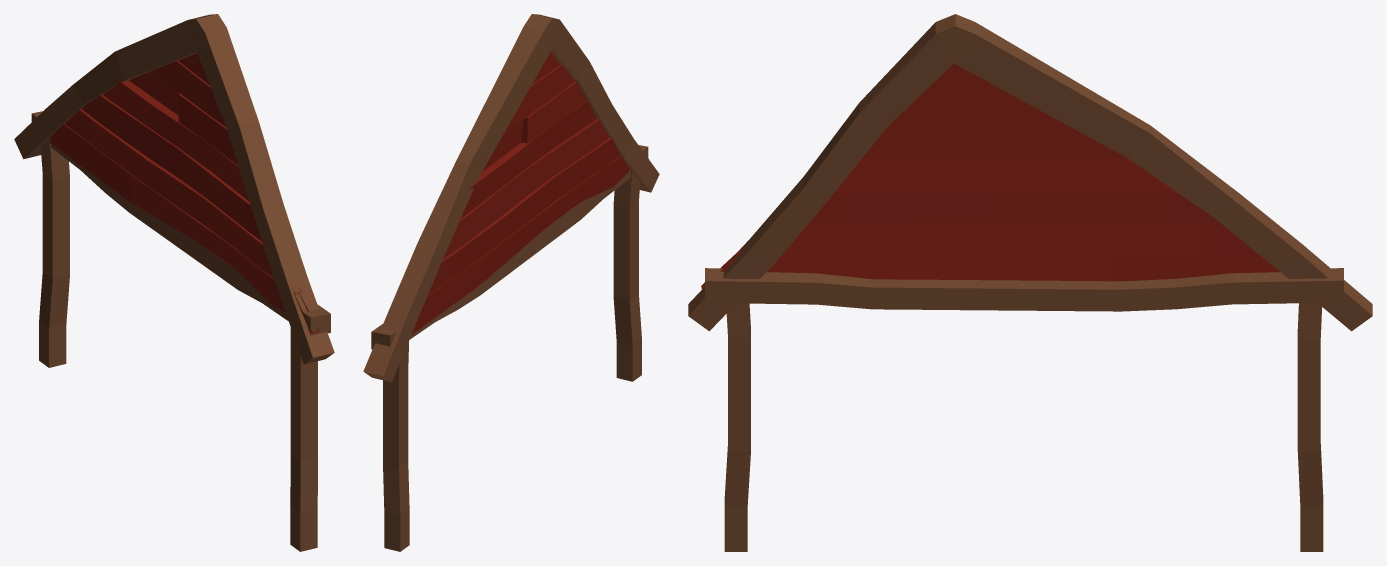
File: Cati2.fbx
The picture shows the model from 3 angles, left to right: view 1: azimuth 30°, elevation 25°; view 2: azimuth 150°, elevation 25°; view 3: azimuth 270°, elevation 25°; orthographic projection. The views are drawn at different scales.
Visible parts, largest first — view 1: Cati2; view 2: Cati2; view 3: Cati2.
Part boxes in pixels (left/top/right/bottom): Cati2: left=14, top=14, right=334, bottom=551; Cati2: left=363, top=14, right=659, bottom=551; Cati2: left=688, top=14, right=1372, bottom=551.
Size of the model in its own units: 52.66 by 908 by 1070.
